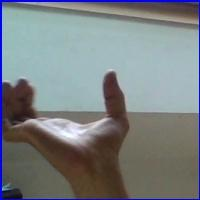B: (4, 65, 142, 175)
